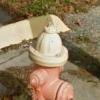Hydrant: (16, 12, 78, 100)
